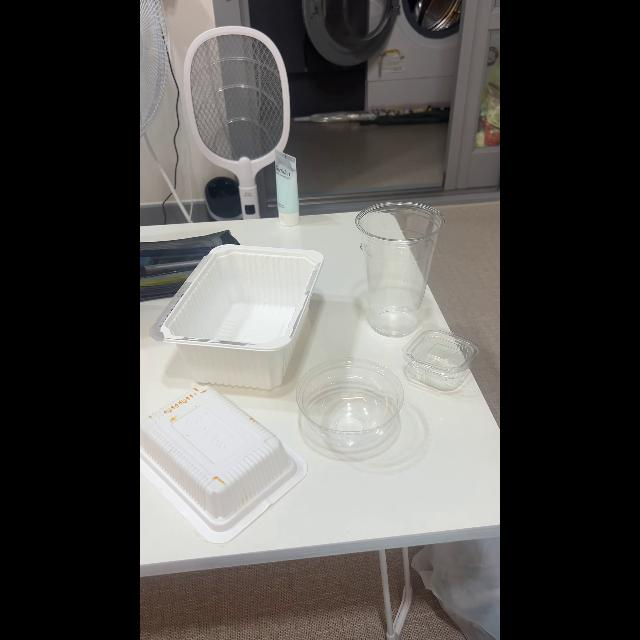clean: (167, 248, 318, 381), (298, 366, 406, 454), (360, 206, 426, 330), (410, 338, 474, 396)
dirty: (146, 384, 286, 518)
